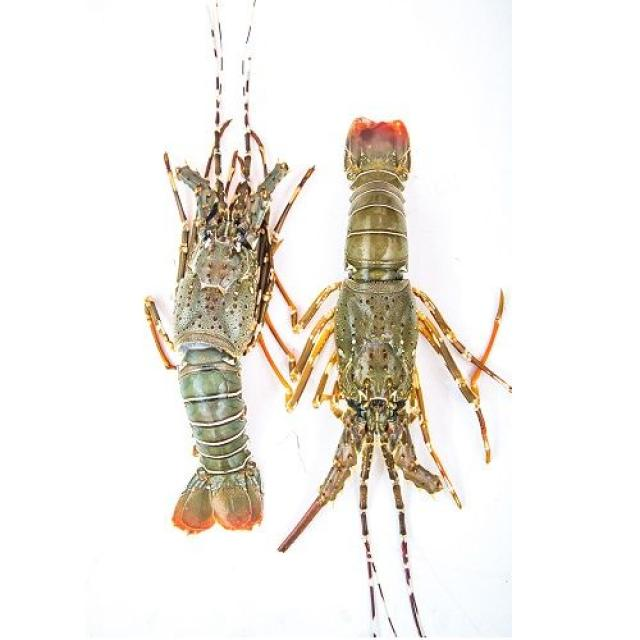Lobster: (279, 118, 510, 636), (144, 0, 331, 532)
